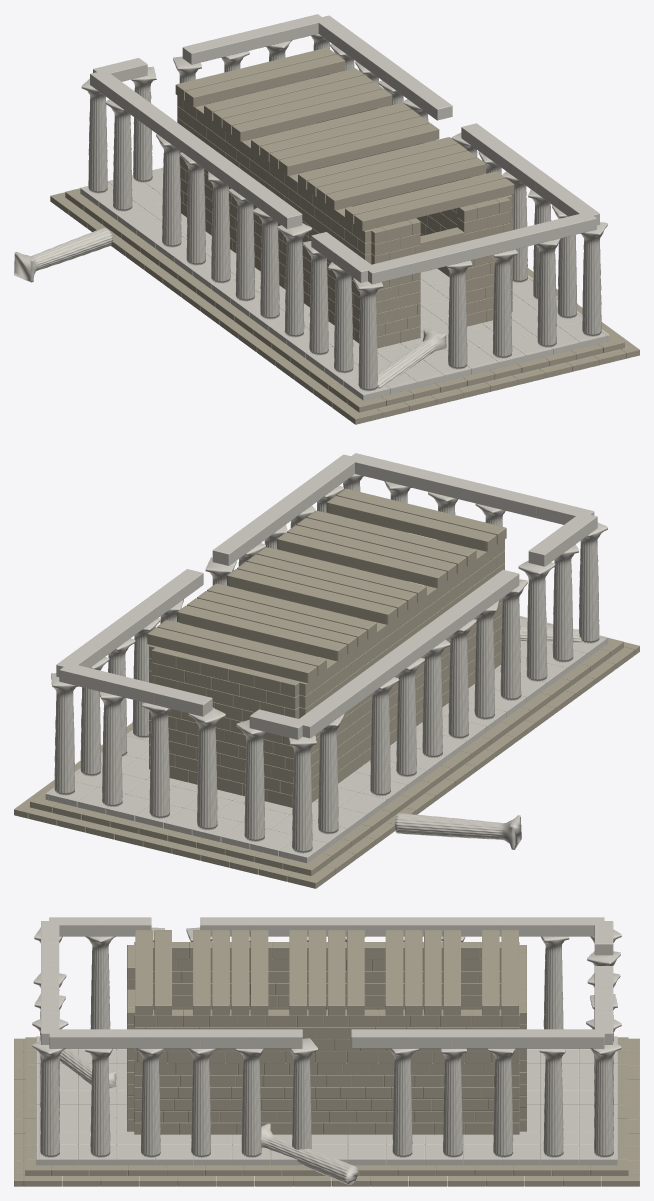
The model's file is temple-ruins-desktop.glb.
The picture shows the model from 3 angles, top to bottom: view 1: azimuth 30°, elevation 25°; view 2: azimuth 150°, elevation 25°; view 3: azimuth 270°, elevation 25°; orthographic projection. The views are drawn at different scales.
Parts seen in each view (by area): view 1: temple-ruins-desktop / Solstice aged marble, temple-ruins-desktop / Solstice weathered sandstone; view 2: temple-ruins-desktop / Solstice aged marble, temple-ruins-desktop / Solstice weathered sandstone; view 3: temple-ruins-desktop / Solstice weathered sandstone, temple-ruins-desktop / Solstice aged marble.
Part boxes in pixels (x1,y1,x2,y2): temple-ruins-desktop / Solstice aged marble: (14, 14, 609, 400); temple-ruins-desktop / Solstice weathered sandstone: (50, 47, 639, 424); temple-ruins-desktop / Solstice aged marble: (45, 453, 608, 863); temple-ruins-desktop / Solstice weathered sandstone: (14, 488, 639, 888); temple-ruins-desktop / Solstice weathered sandstone: (14, 930, 639, 1186); temple-ruins-desktop / Solstice aged marble: (32, 917, 621, 1184).
Size of the model in its own units: 30.45 by 10.15 by 38.99.
